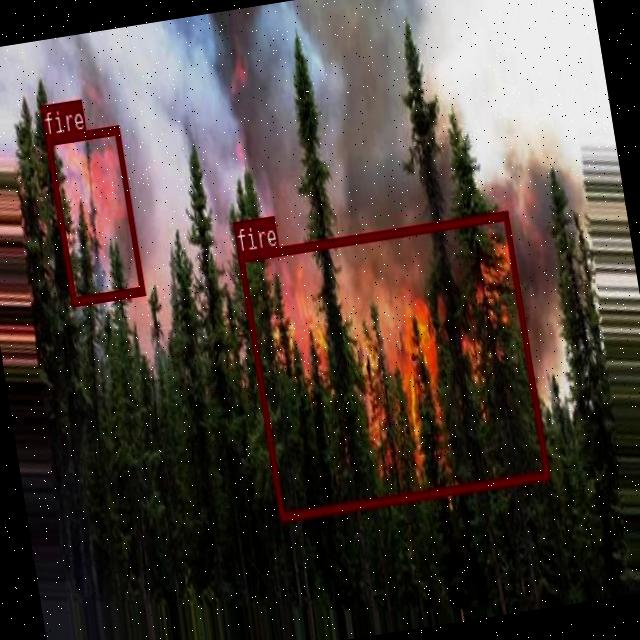fire: (237, 209, 549, 521), (44, 125, 144, 304)
